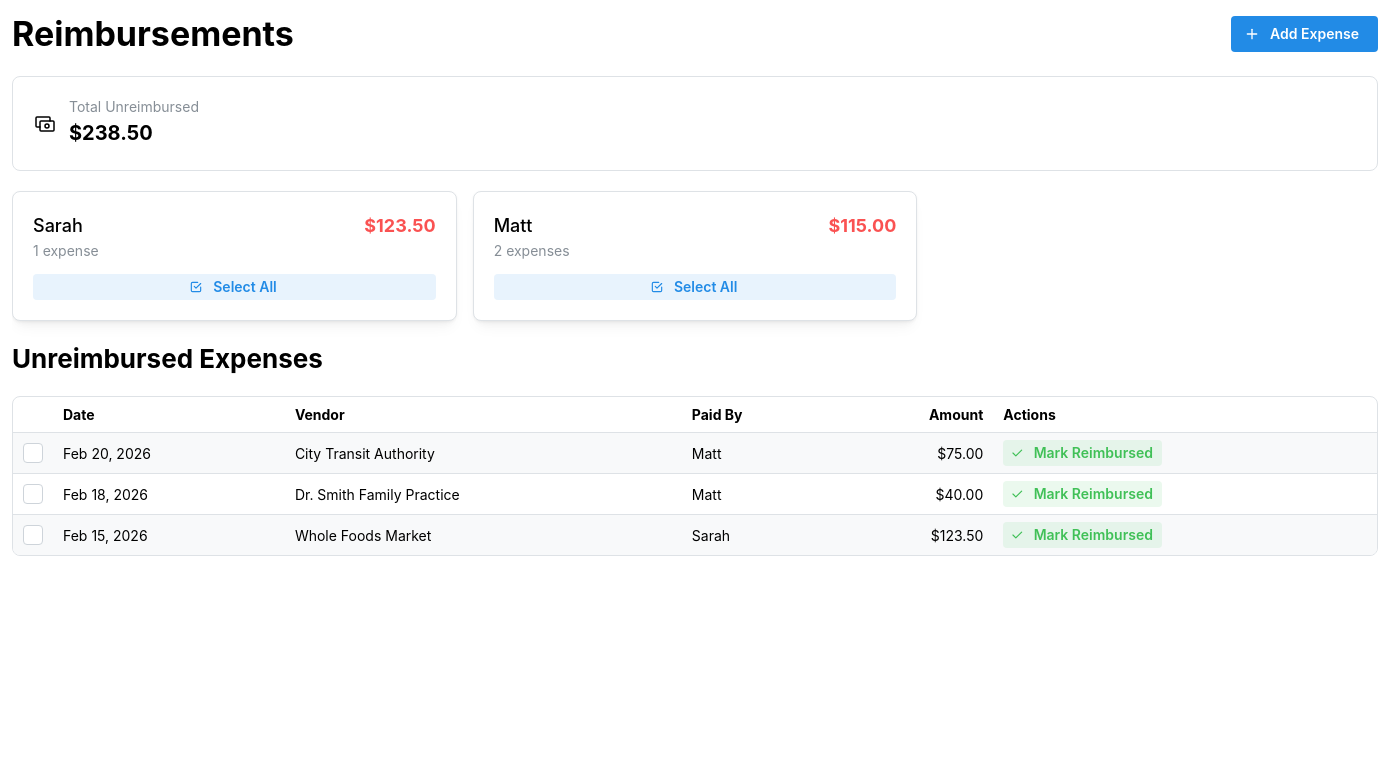
Test: Reimbursements Page › Bulk Reimbursement › Select All for Person › clicking Select All for Matt selects all of Matt expenses
This screenshot has width=1378, height=780.
Click the button with aria-label "select all for Matt". click: [695, 287]
box: [494,274,896,300]
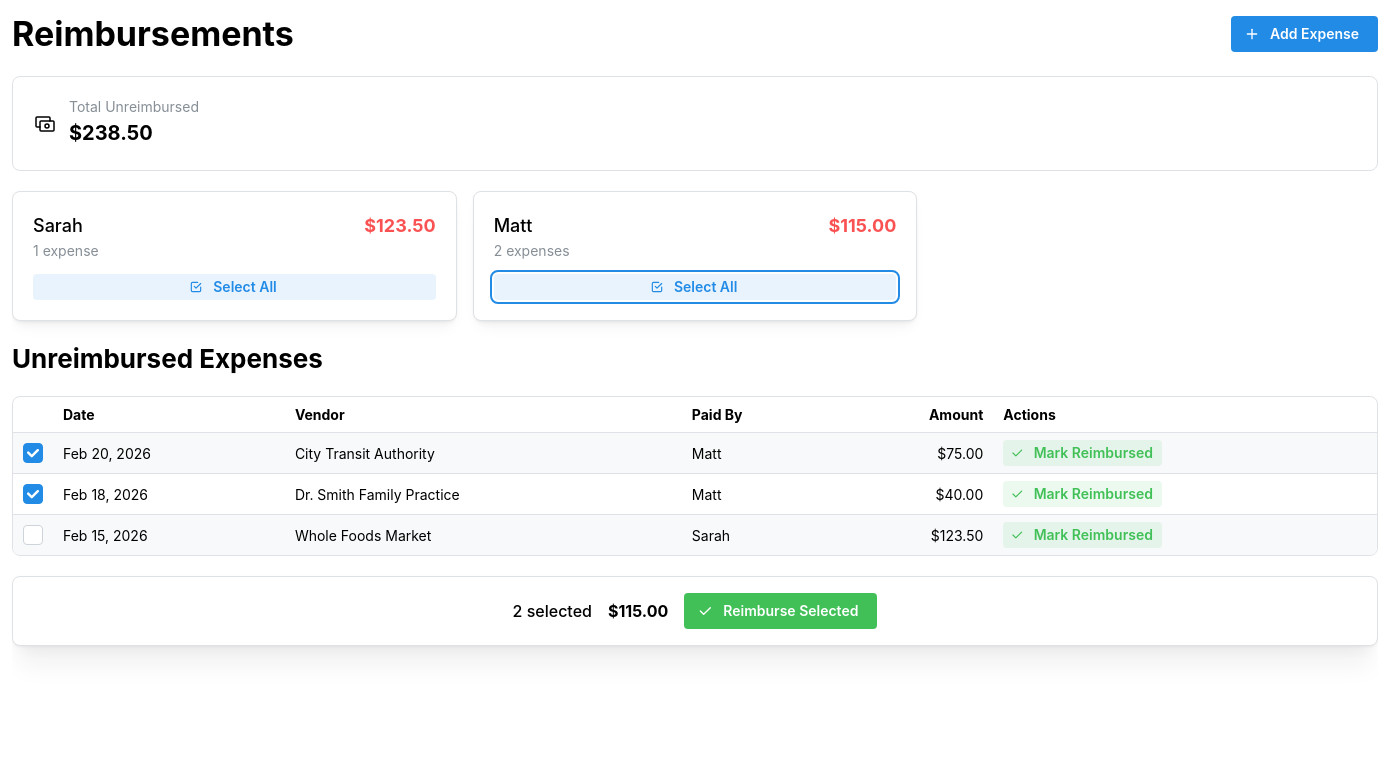
Expected: the checkbox named "select Whole Foods Market" is not checked, [23,525,43,545]
Now the checkbox named "select City Transit Authority" is checked, box [23,443,43,463]
Now the checkbox named "select Dr. Smith Family Practice" is checked, box [23,484,43,504]
